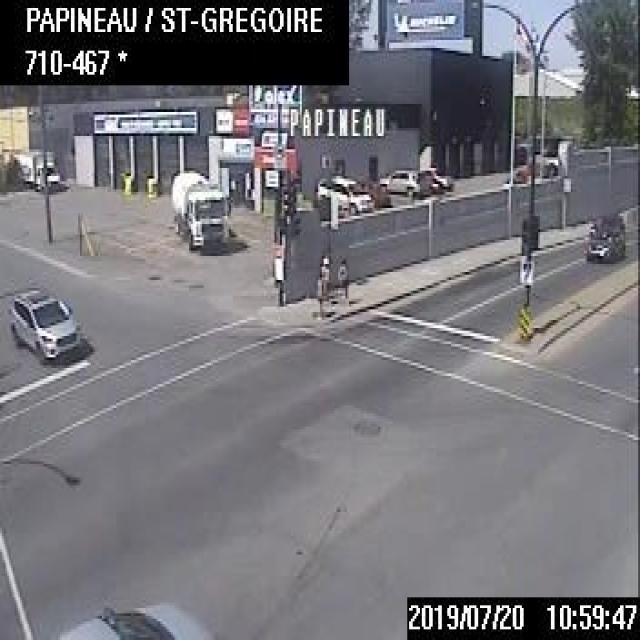pedestrian: (318, 253, 329, 315), (334, 256, 346, 301)
vehicle: (56, 595, 216, 637), (170, 168, 235, 255), (7, 288, 80, 360), (312, 170, 372, 217), (2, 147, 60, 192), (580, 211, 625, 256), (378, 164, 419, 194)
